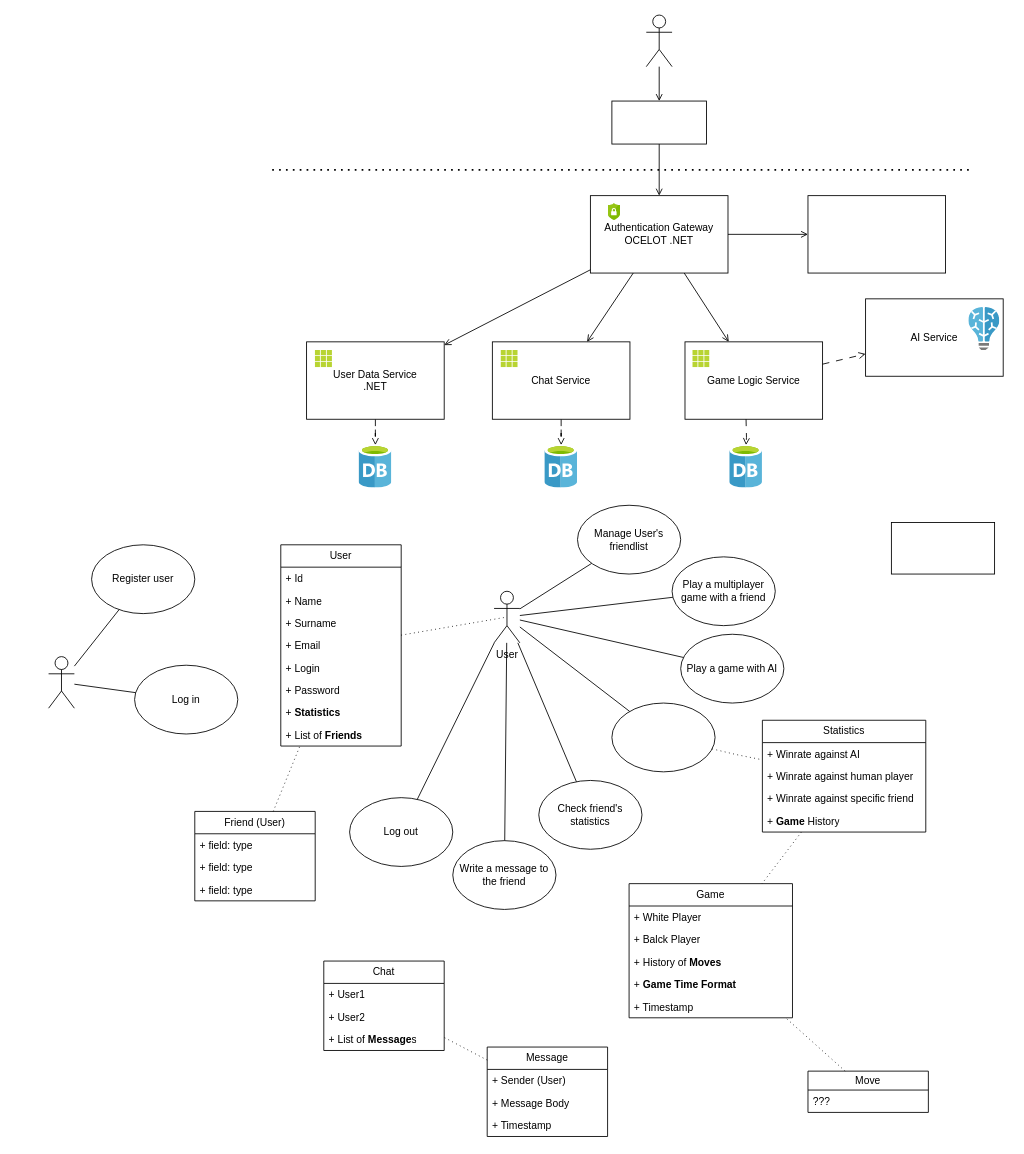
Image size: 1024x1154. Some labels were removed from this diagram. The centre of each missing label's shape, as x and y in pixels:
"Chat DB" goes at [560,466].
"Check user statistics" goes at [663,737].
"ChessterAI" goes at [983,328].
"Front-End" goes at [658,122].
"Game Data Service" goes at [745,466].
"OAuth" goes at [876,234].
"piwko" goes at [943,548].
"Unregistered person" goes at [61,682].
"User Data DB" goes at [375,466].
